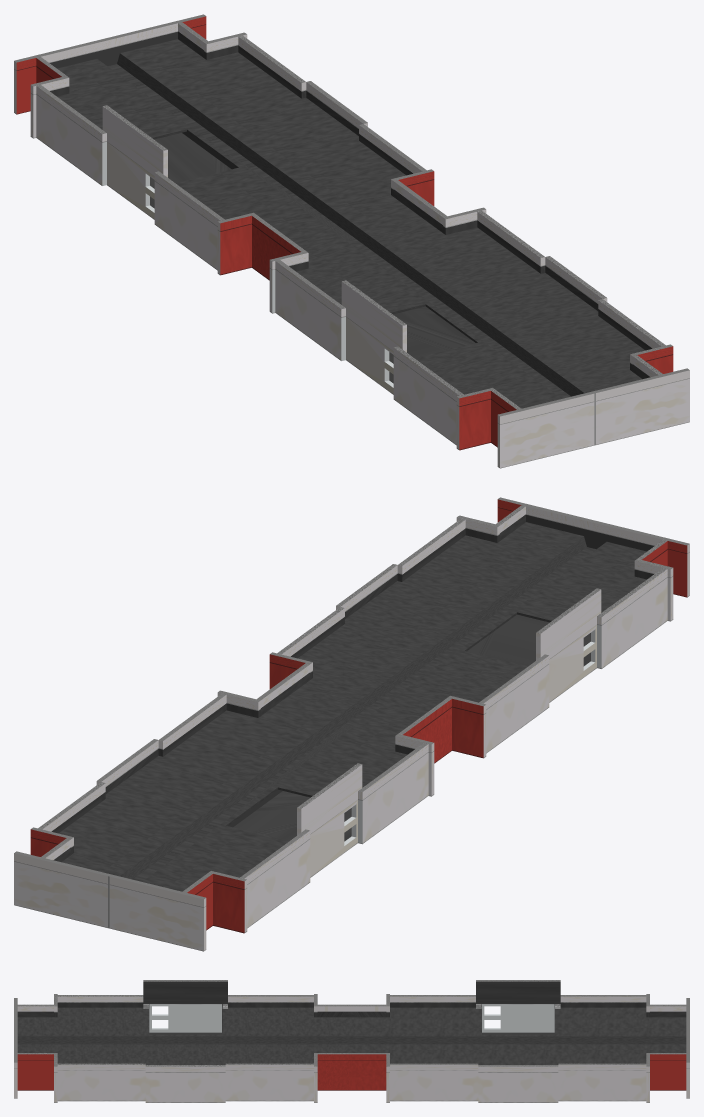
File: Roof.fbx
The picture shows the model from 3 angles, top to bottom: view 1: azimuth 30°, elevation 25°; view 2: azimuth 150°, elevation 25°; view 3: azimuth 270°, elevation 25°; orthographic projection. The views are drawn at different scales.
Parts seen in each view (by area): view 1: Roof_Floor, Roof_Floor.001, Wall_side_north.012, Wall_side_north.021, Wall_stairs.003, Wall_stairs.005, Wall_kitchen_north_2.006, Wall_kitchen_north_2.005, Wall_kitchen_north_2.007, Wall_kitchen_north_2.004, Wall_side_north.004, Floor.005 (+17 smaller); view 2: Roof_Floor.001, Roof_Floor, Wall_side_north.004, Wall_side_north.011, Wall_stairs.005, Wall_stairs.003, Wall_kitchen_north_2.007, Wall_kitchen_north_2.004, Wall_kitchen_north_2.006, Wall_kitchen_north_2.005, Wall_side_north.012, Floor.005 (+17 smaller); view 3: Roof_Floor.001, Roof_Floor, Wall_stairs.005, Wall_stairs.003, Wall_rooms_south_1.004, Wall_rooms_south_1.005, Wall_rooms_south_1.006, Wall_rooms_south_1.007, Wall_kitchen_south.004, Wall_kitchen_south.005, Wall_deep_red_south_1.004, Wall_deep_red_south_1.005 (+14 smaller).
Part boxes in pixels (x1,y1,x2,y2): Roof_Floor: (57,39,416,243); Roof_Floor.001: (296,214,645,408); Wall_side_north.012: (497,391,594,468); Wall_side_north.021: (592,368,689,445); Wall_stairs.003: (341,280,406,394); Wall_stairs.005: (102,105,167,219); Wall_kitchen_north_2.006: (36,84,106,185); Wall_kitchen_north_2.005: (275,260,345,361); Wall_kitchen_north_2.007: (393,346,463,445); Wall_kitchen_north_2.004: (154,171,224,270); Wall_side_north.004: (14,37,111,114); Floor.005: (389,306,475,383); Roof_Floor.001: (285,522,646,728); Roof_Floor: (58,699,407,891); Wall_side_north.004: (109,874,206,951); Wall_side_north.011: (14,851,111,928); Wall_stairs.005: (297,763,362,877); Wall_stairs.003: (536,588,601,702); Wall_kitchen_north_2.007: (597,567,667,668); Wall_kitchen_north_2.004: (358,743,428,844); Wall_kitchen_north_2.006: (240,829,310,928); Wall_kitchen_north_2.005: (479,654,549,753); Wall_side_north.012: (592,520,689,597); Floor.005: (467,614,590,666); Roof_Floor.001: (17,1007,353,1064); Roof_Floor: (353,1007,686,1064); Wall_stairs.005: (476,980,560,1032); Wall_stairs.003: (143,980,227,1032); Wall_rooms_south_1.004: (558,1063,646,1101); Wall_rooms_south_1.005: (57,1063,145,1101); Wall_rooms_south_1.006: (390,1063,478,1101); Wall_rooms_south_1.007: (225,1063,313,1101); Wall_kitchen_south.004: (478,1065,558,1102); Wall_kitchen_south.005: (145,1065,225,1102); Wall_deep_red_south_1.004: (650,1053,686,1090); Wall_deep_red_south_1.005: (17,1053,53,1090).
Size of the model in its own units: 1420 by 480 by 5588.
Materials: 7 (6 with a texture image).
